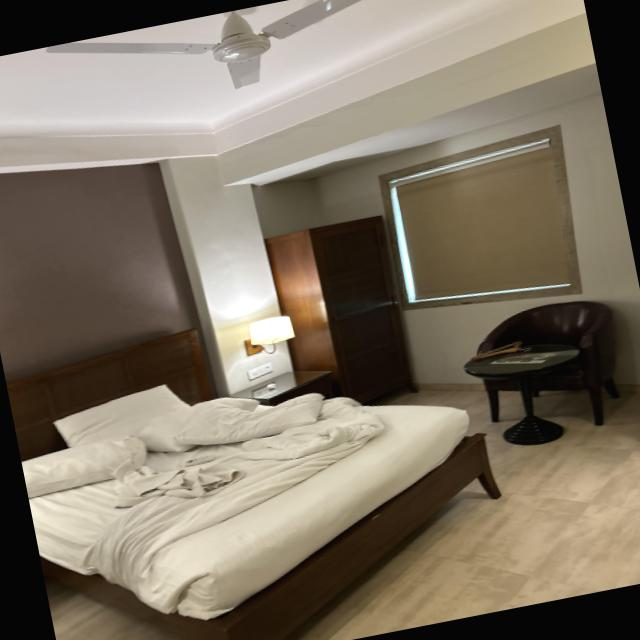mess: (30, 358, 495, 640)
